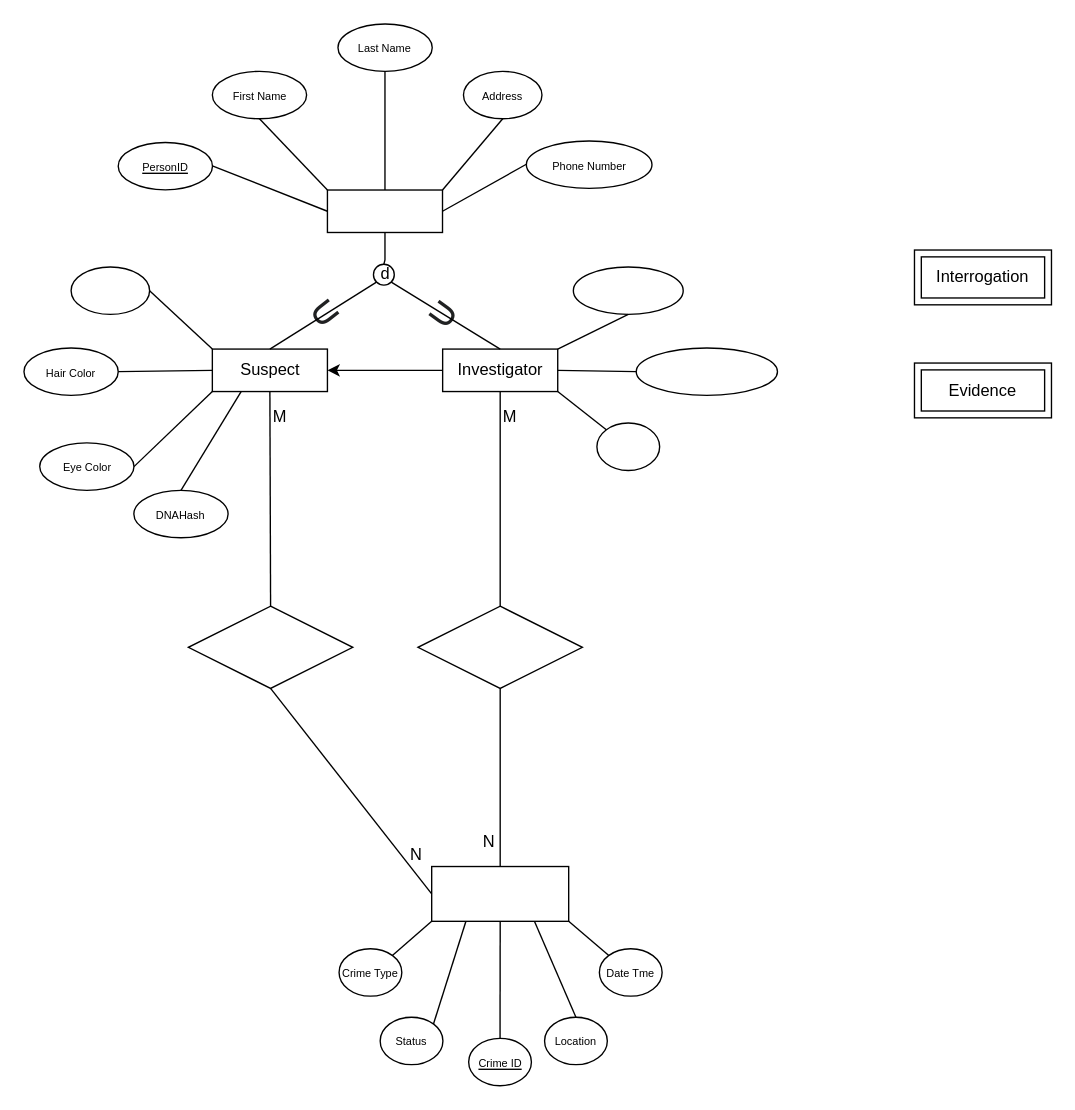
This 1075x1110 diagram has some shape labels left out. The shapes that lost their labels are listed below. From the top down, each one's box as (x1, y1, x2, y2) in pixels, then its label:
(326, 189, 443, 232): Person
(70, 266, 150, 314): Height
(572, 266, 683, 314): Department
(635, 347, 777, 395): Investigation Count
(596, 422, 660, 470): Rank
(187, 605, 353, 688): Relationship
(417, 605, 582, 688): Assigned to
(430, 865, 569, 921): Crime
